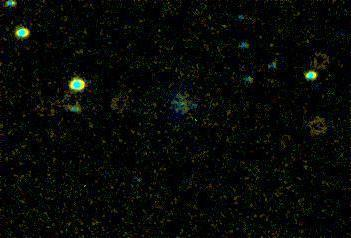star: (209, 11, 239, 41)
